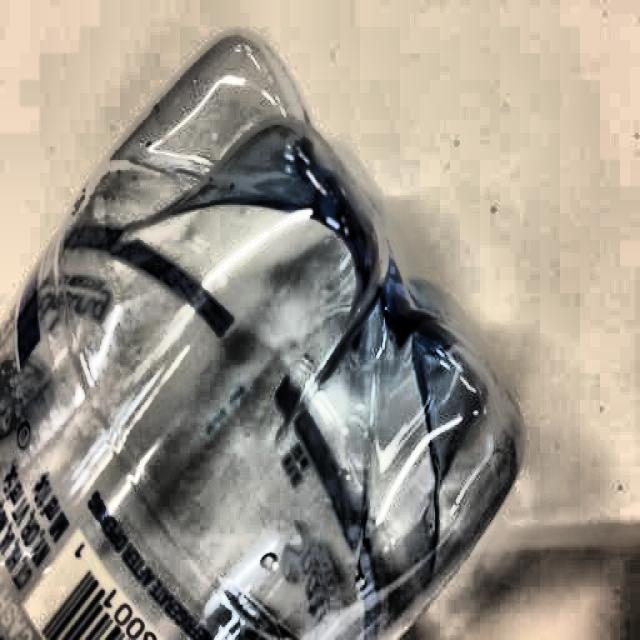plastic: (5, 16, 522, 640)
